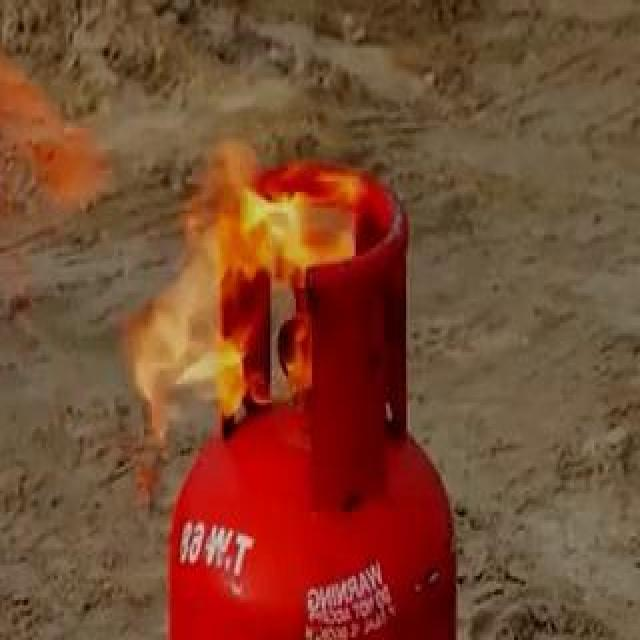Fire: (82, 62, 362, 422)
